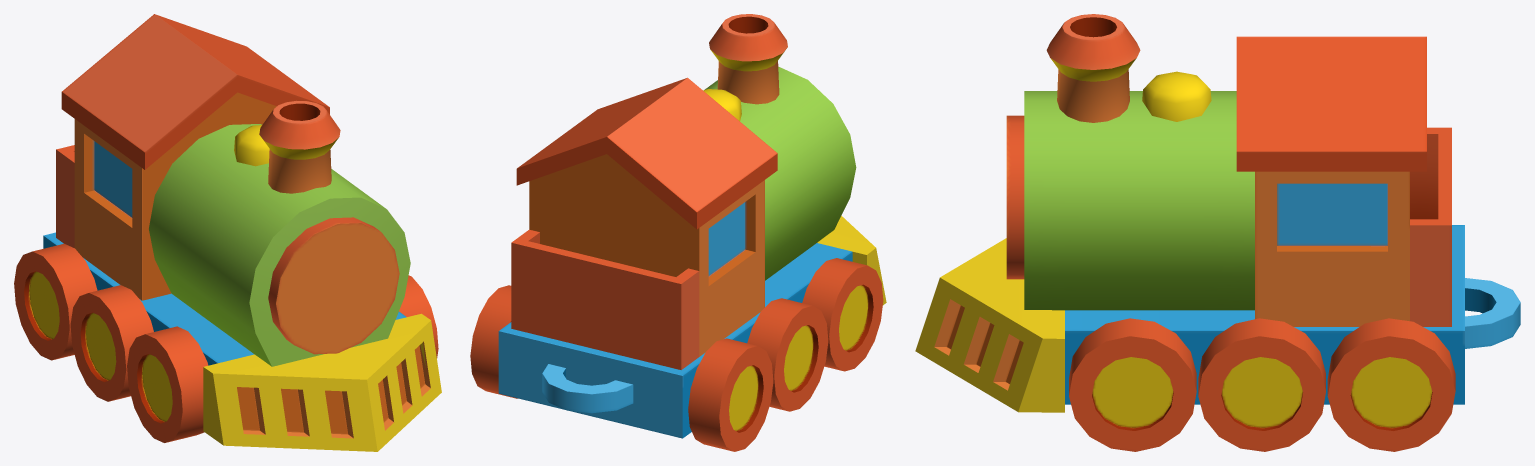
File: ENV2010068.fbx
3 renders of one model, left to right at view 1: azimuth 30°, elevation 25°; view 2: azimuth 150°, elevation 25°; view 3: azimuth 270°, elevation 25°, orthographic. The views are drawn at different scales.
Visible parts, largest first — view 1: smENV2010068; view 2: smENV2010068; view 3: smENV2010068.
Boxes of the visible parts, x1,y1,x2,y2 form: smENV2010068: [14, 14, 441, 451]; smENV2010068: [470, 14, 886, 451]; smENV2010068: [915, 14, 1520, 451].
Size of the model in its own units: 13.18 by 15.18 by 23.58.
Materials: 1 (1 with a texture image).
